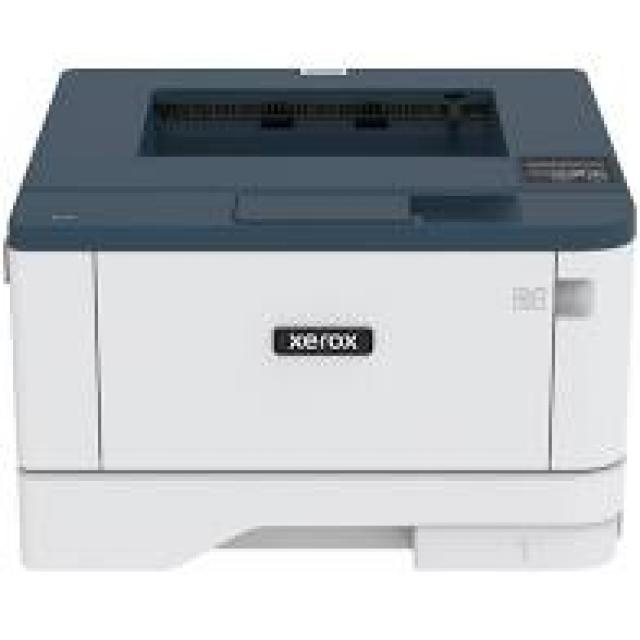printer: (0, 25, 640, 592)
